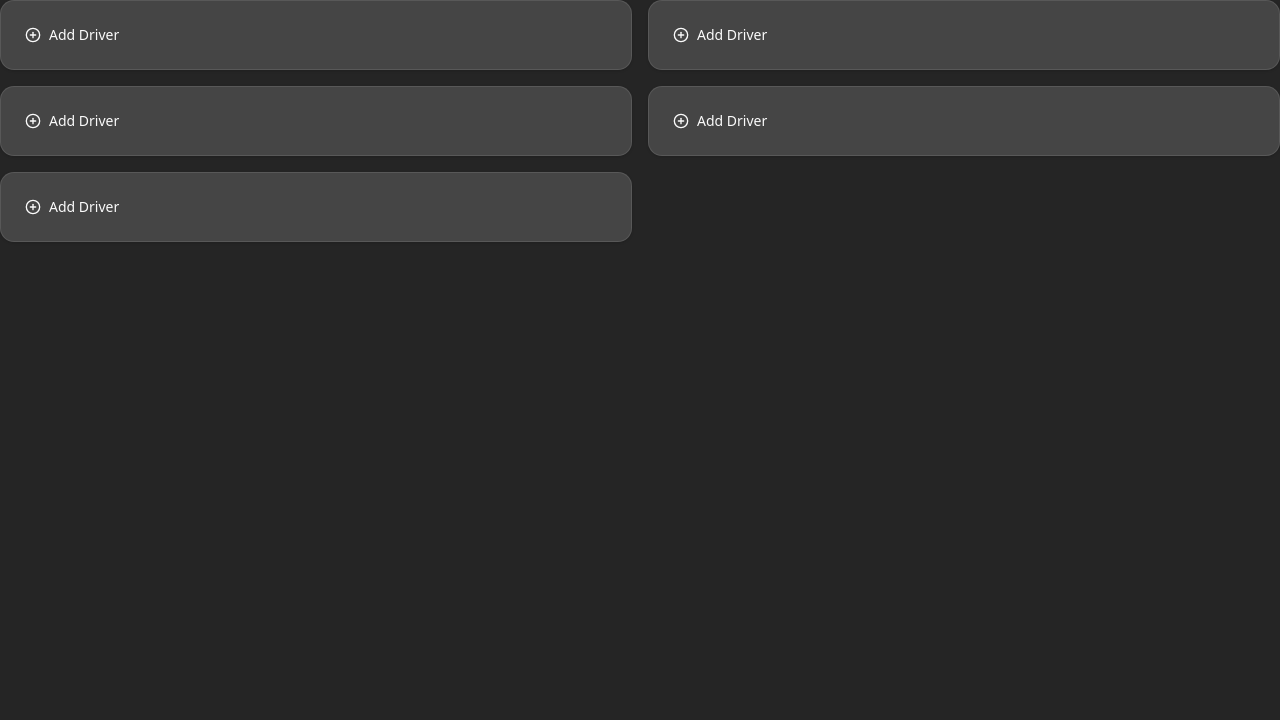
Scenario: DriverPicker › Driver Selection Flow › adds selected driver to slot and closes sheet
The width and height of the screenshot is (1280, 720).
Click the 1st button "Add Driver".
click(72, 35)  # box [13, 17, 131, 53]
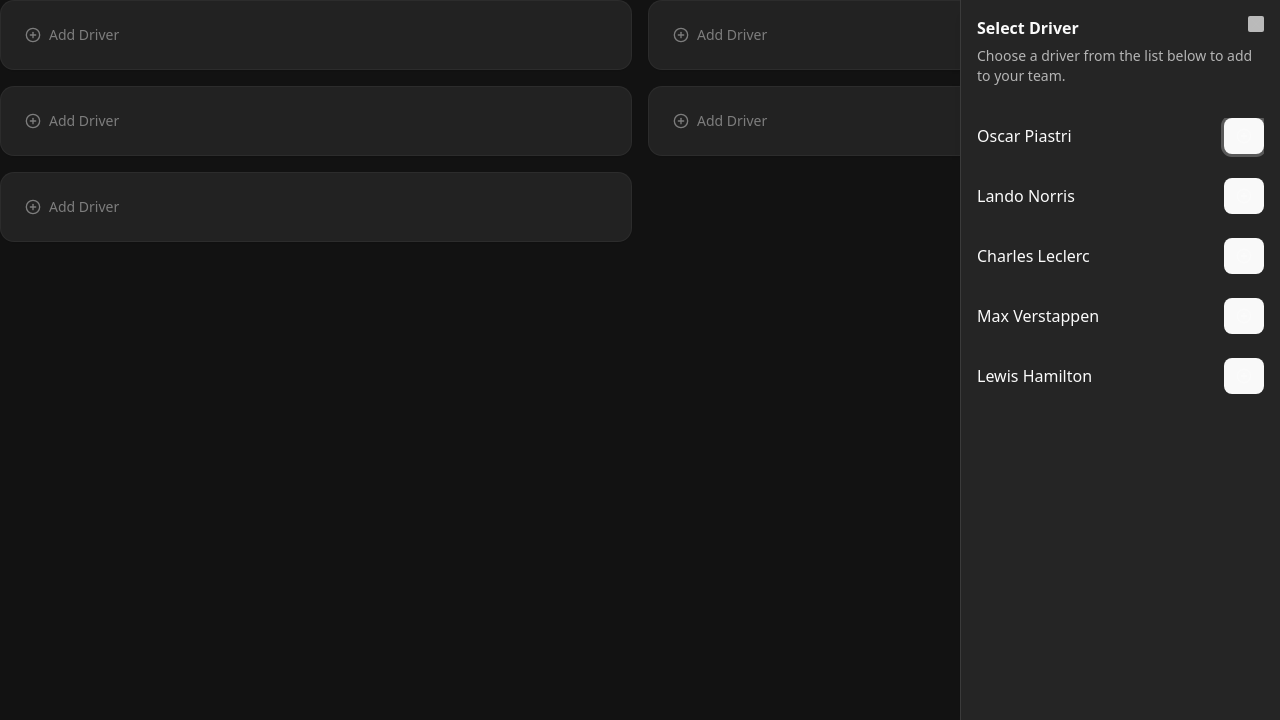
expect the heading "Select Driver" is shown: met, box [977, 17, 1079, 39]
Click the button named "add driver" in the row of "Oscar".
click(1244, 136)  # box [1224, 118, 1264, 154]
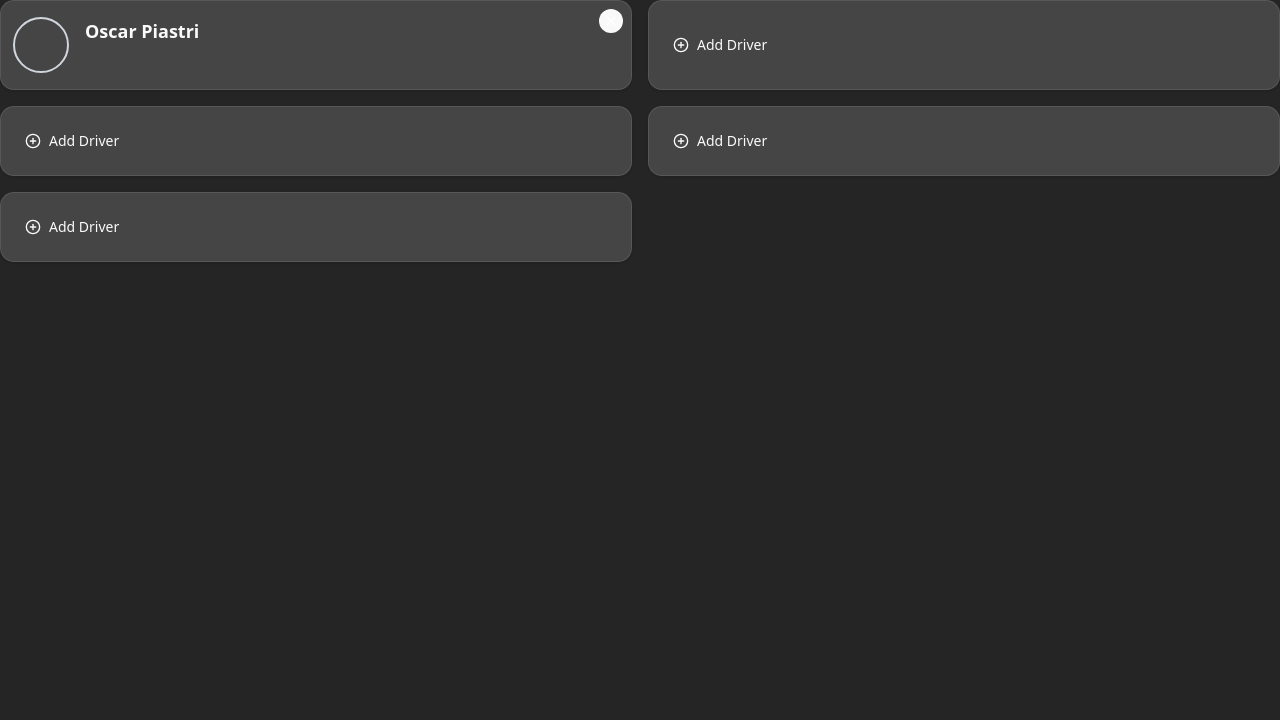
expect the heading "Oscar Piastri" is shown: met, box [85, 17, 199, 45]
expect the heading "Select Driver" is gone: met
expect the number of buttons "Add Driver" is 4: met, box [661, 27, 779, 63]; [13, 123, 131, 159]; [661, 123, 779, 159]; [13, 209, 131, 245]
